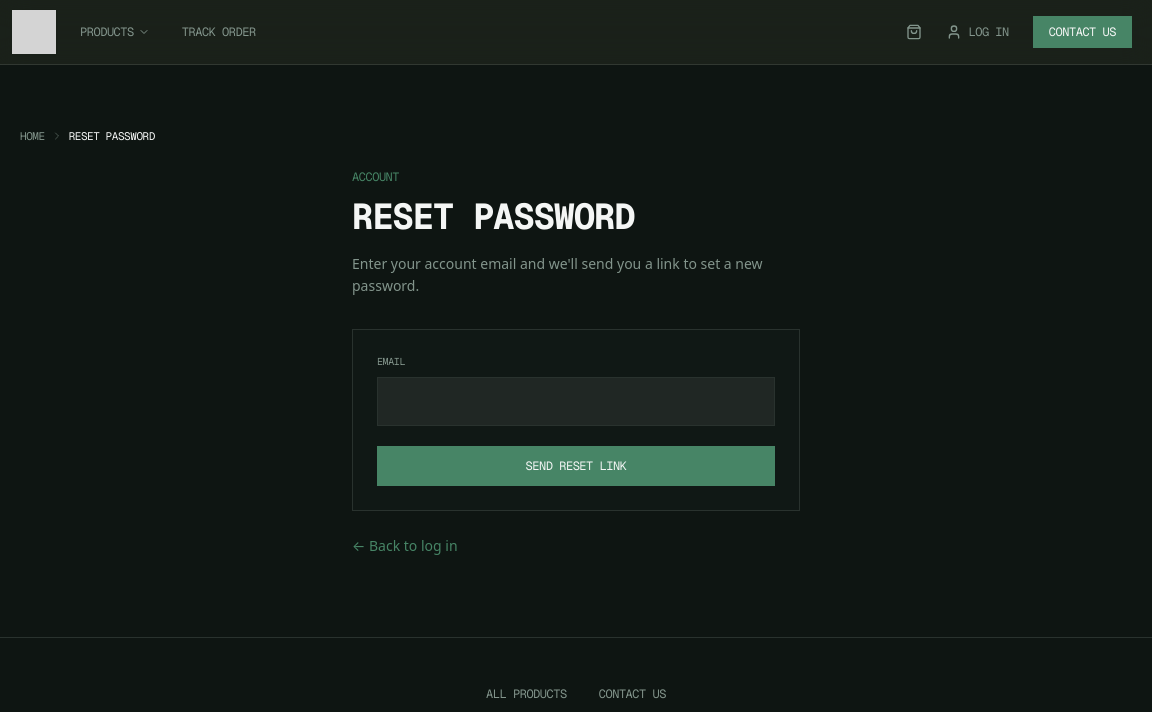
password reset › forgot password shows a generic confirmation
This screenshot has width=1152, height=712.
Expected: the heading "Reset Password" is shown, [352,192,634,240]
In the field labelled "Email": (576, 402) [377,377,775,426], type "customer@example.com"
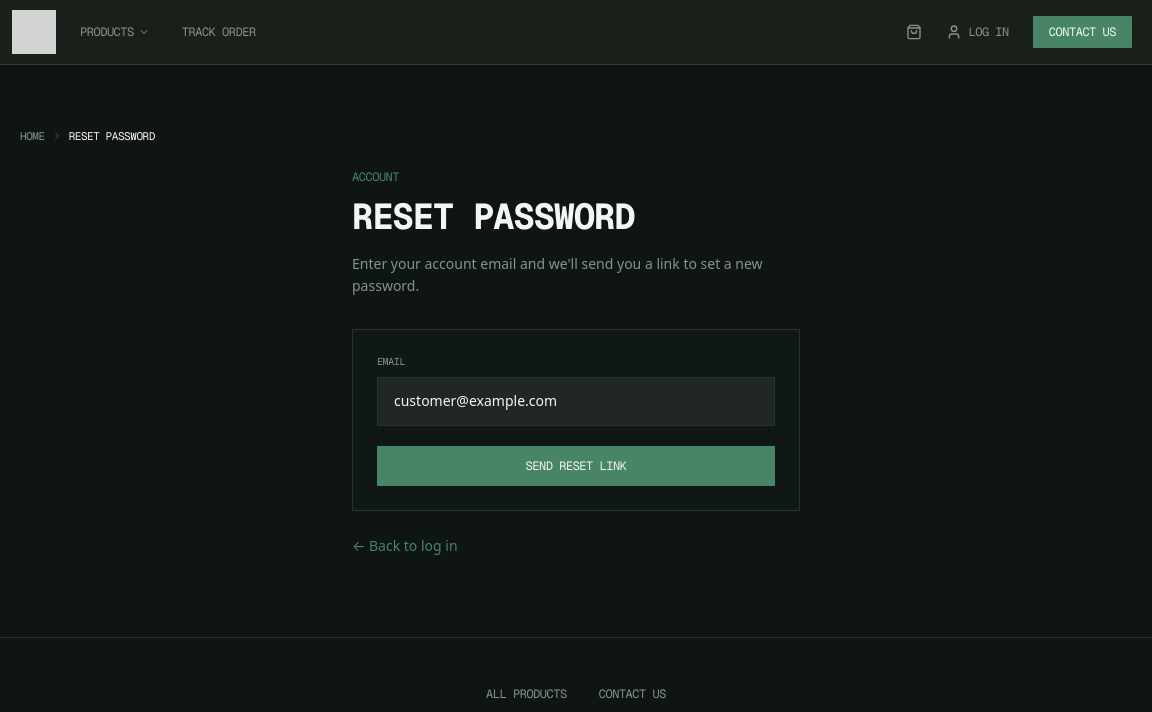
Click the button "Send Reset Link": (576, 466) [377,446,775,486]
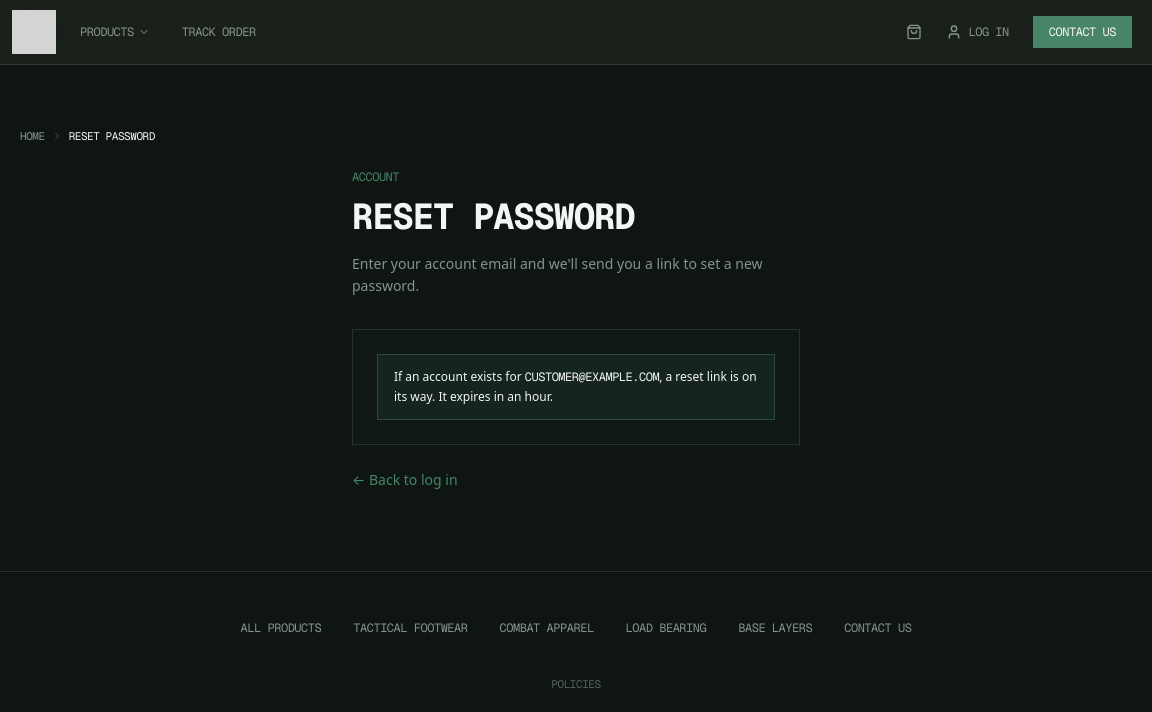
Now the text "a reset link is on its way" is shown, box [394,368,757,406]
